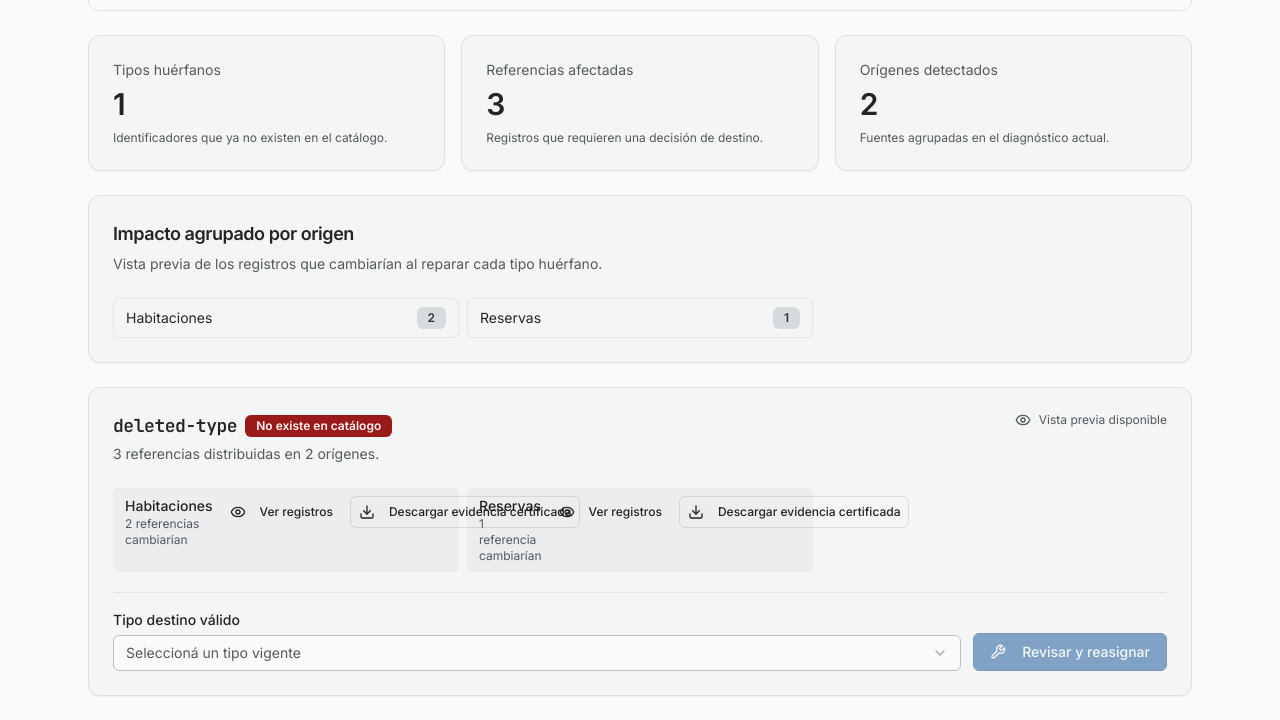
Test: reparación de integridad de tipos de habitación › conserva el diagnóstico visible cuando el endpoint rechaza la reparación
(page scrolled)
What coordinates should you click on to do the following:
click the dropdown labelled "Seleccioná un tipo vigente"
I would click on:
 (213, 652)
Its box is [113,635,961,671].
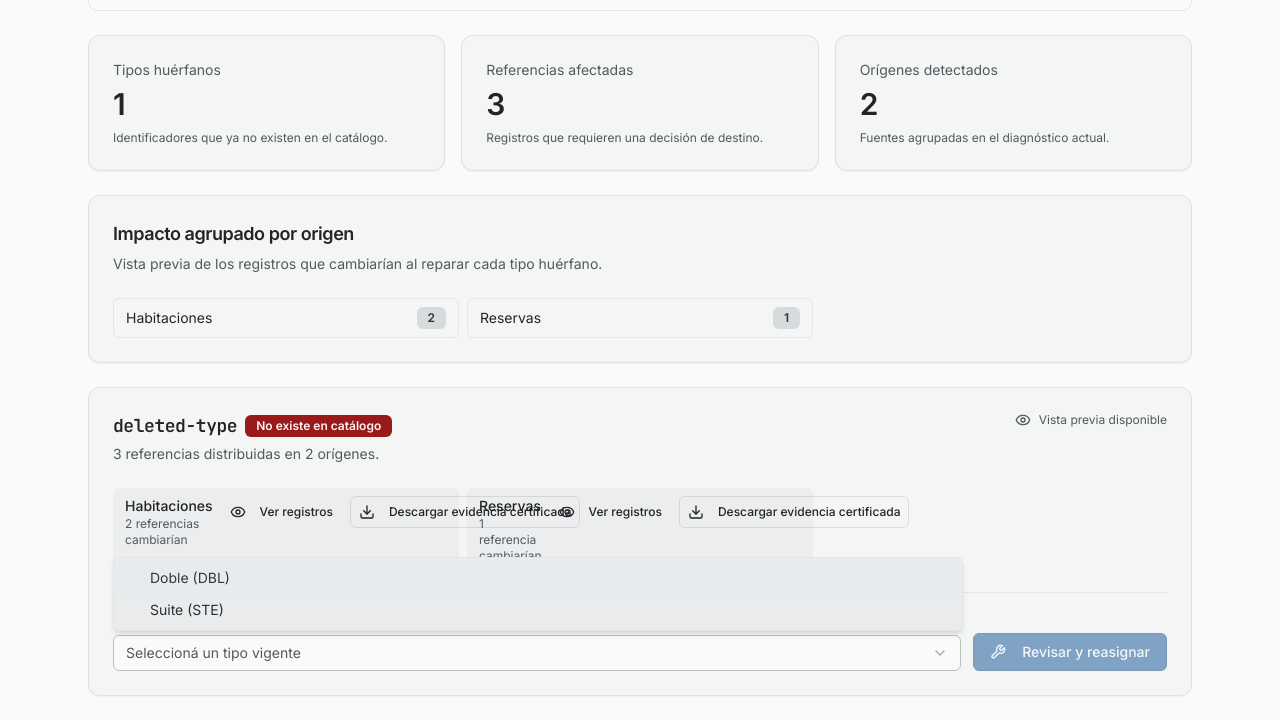
What coordinates should you click on to do the following:
click the option "Doble (DBL)"
I would click on:
 (169, 578)
Its box is [118,562,958,594].
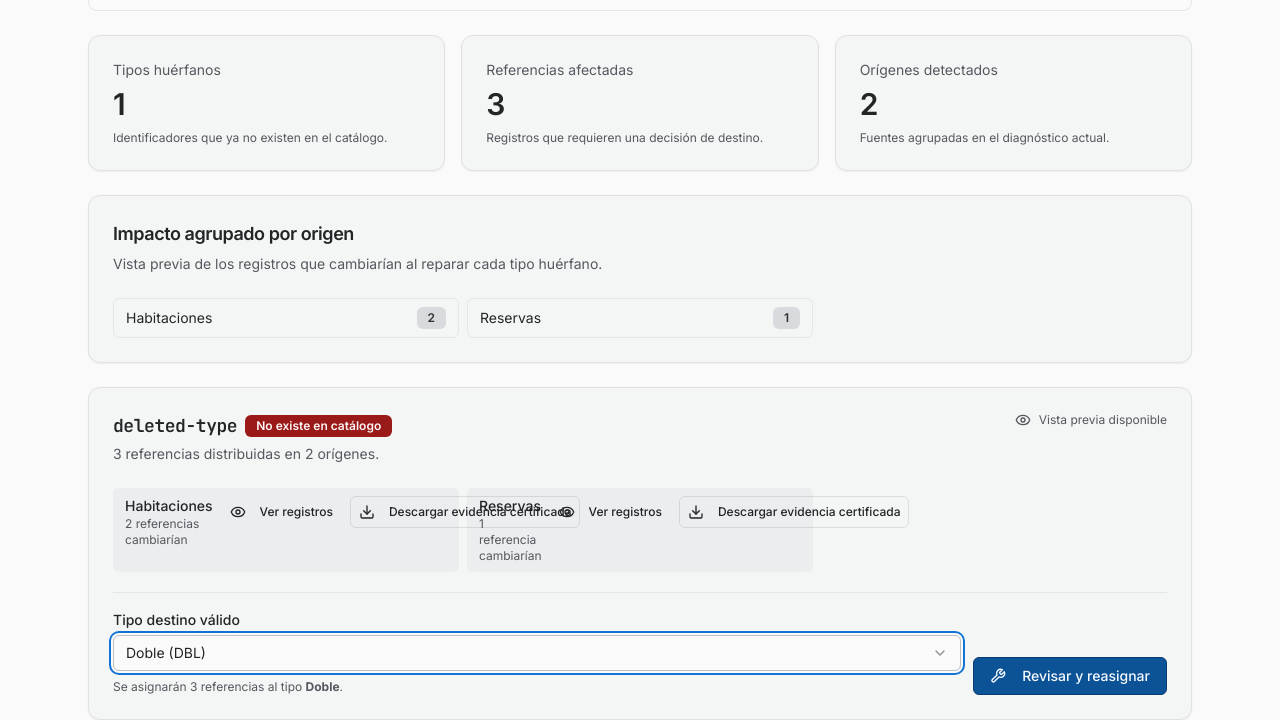
What coordinates should you click on to do the following:
click the button "Revisar y reasignar"
I would click on:
 (1070, 676)
Its box is [973,657,1167,695].
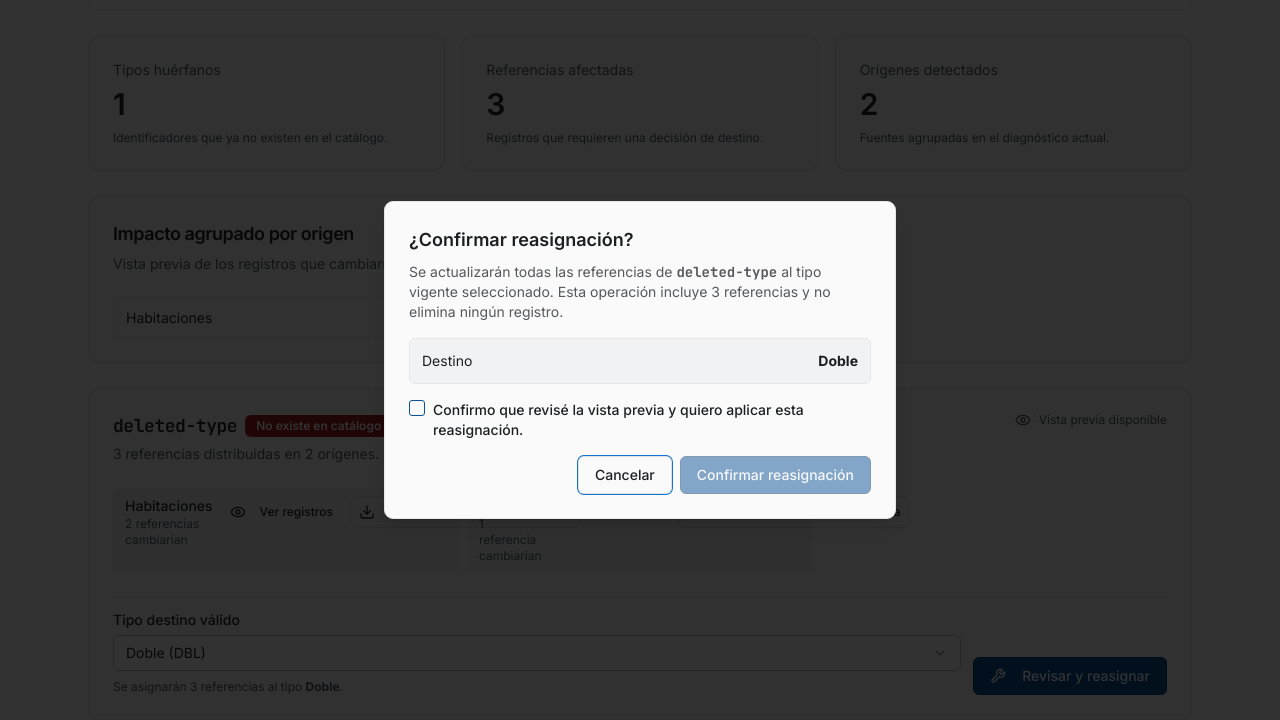
Check: the dialog is shown, box [384,201,896,519]
What coordinates should you click on to do the following:
click the checkbox with test id "checkbox-confirm-room-type-repair"
I would click on:
 (417, 408)
Its box is [409,400,425,416].
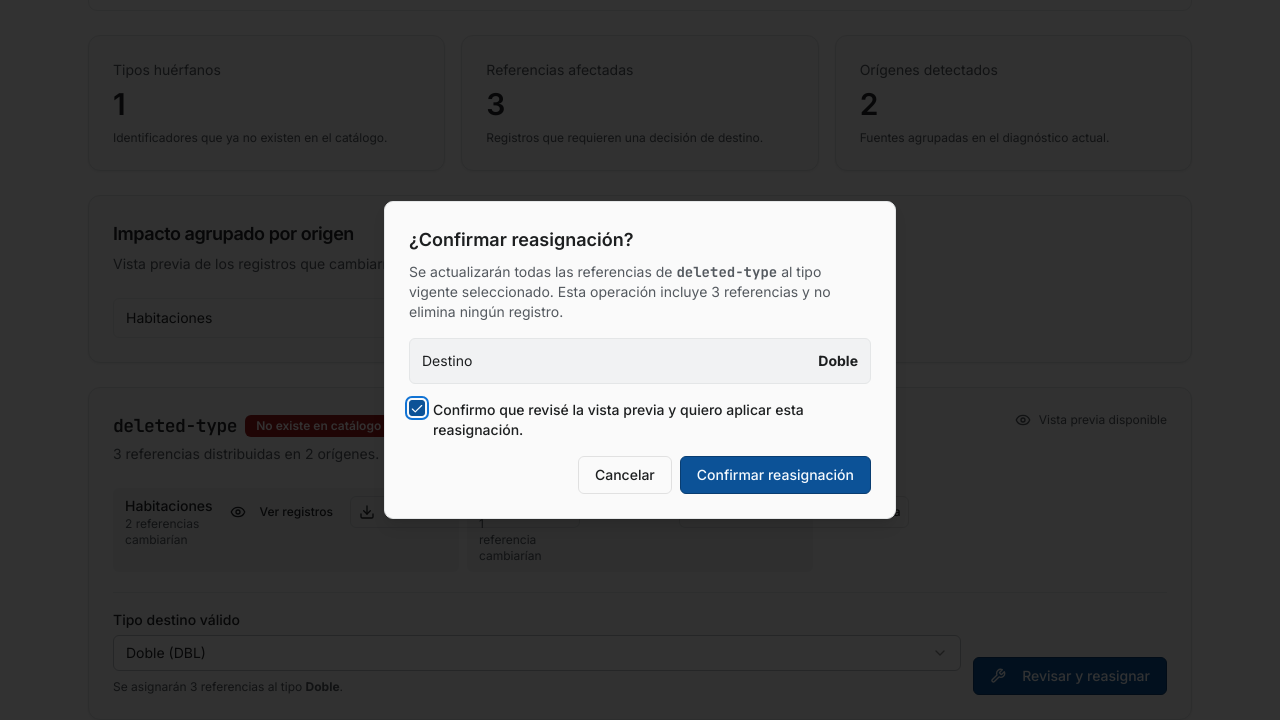
What coordinates should you click on to do the following:
click the button with test id "button-confirm-room-type-repair"
I would click on:
 (775, 475)
Its box is [680,456,871,494].
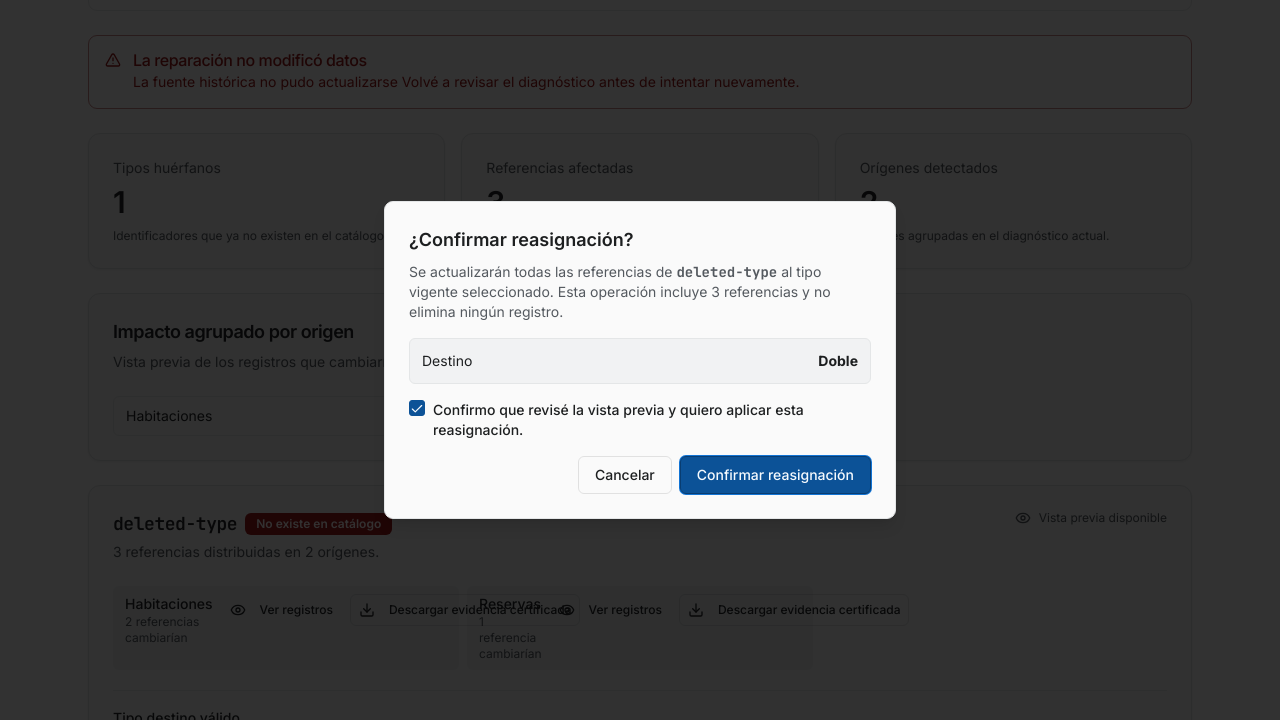
Check: the dialog is shown, box [384,201,896,519]
Check: the heading "La reparación no modificó datos" is shown, box [133,50,367,70]
Check: the text "La fuente histórica no pudo actualizarse" is shown, box [133,73,398,90]
